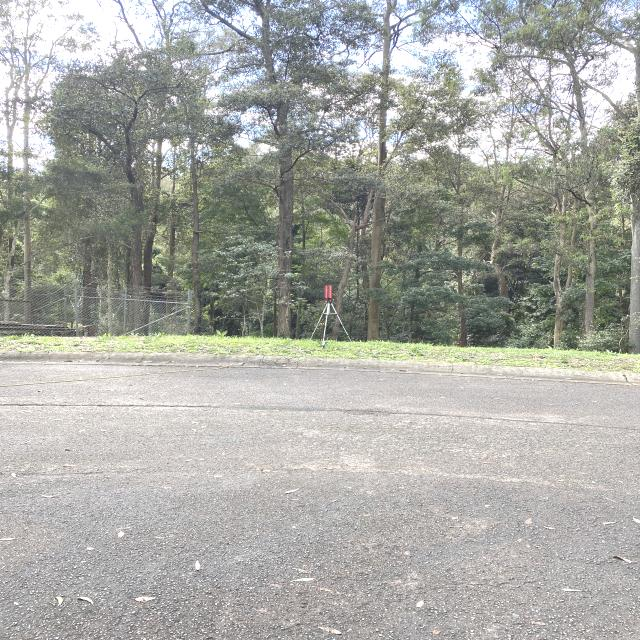matrix: (323, 284, 333, 298)
